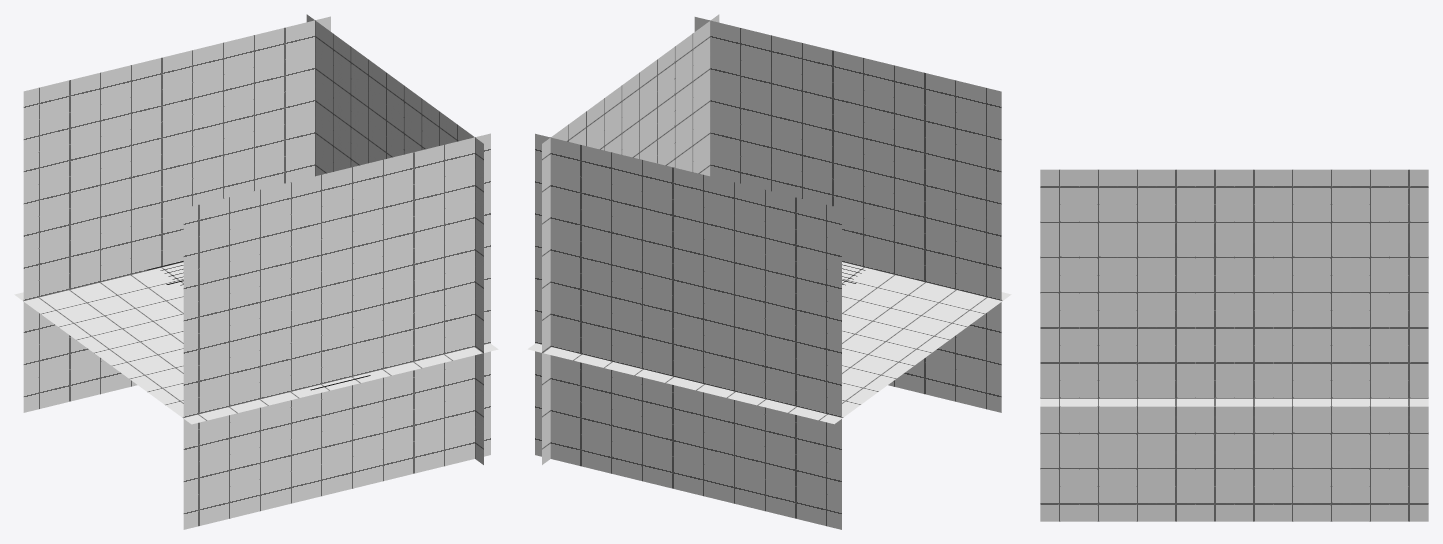
Rendered from TrainingRoom.fbx.
3 views of the same model, side by side, from view 1: azimuth 30°, elevation 25°; view 2: azimuth 150°, elevation 25°; view 3: azimuth 270°, elevation 25° (orthographic). The views are drawn at different scales.
Parts seen in each view (by area): view 1: pPlane46, pPlane45, pPlane43, pPlane44; view 2: pPlane45, pPlane46, pPlane44, pPlane43; view 3: pPlane44, pPlane43.
Part boxes in pixels (x1=…): pPlane46: x1=183, y1=133, x2=490, y2=529; pPlane45: x1=23, y1=16, x2=330, y2=412; pPlane43: x1=14, y1=261, x2=498, y2=424; pPlane44: x1=306, y1=14, x2=483, y2=464; pPlane45: x1=535, y1=133, x2=841, y2=529; pPlane46: x1=694, y1=17, x2=1001, y2=412; pPlane44: x1=542, y1=14, x2=719, y2=464; pPlane43: x1=528, y1=262, x2=1011, y2=424; pPlane44: x1=1040, y1=169, x2=1428, y2=521; pPlane43: x1=1040, y1=398, x2=1428, y2=406.
Size of the model in its own units: 74.4 by 74.16 by 74.16.
Materials: 3 (1 with a texture image).
